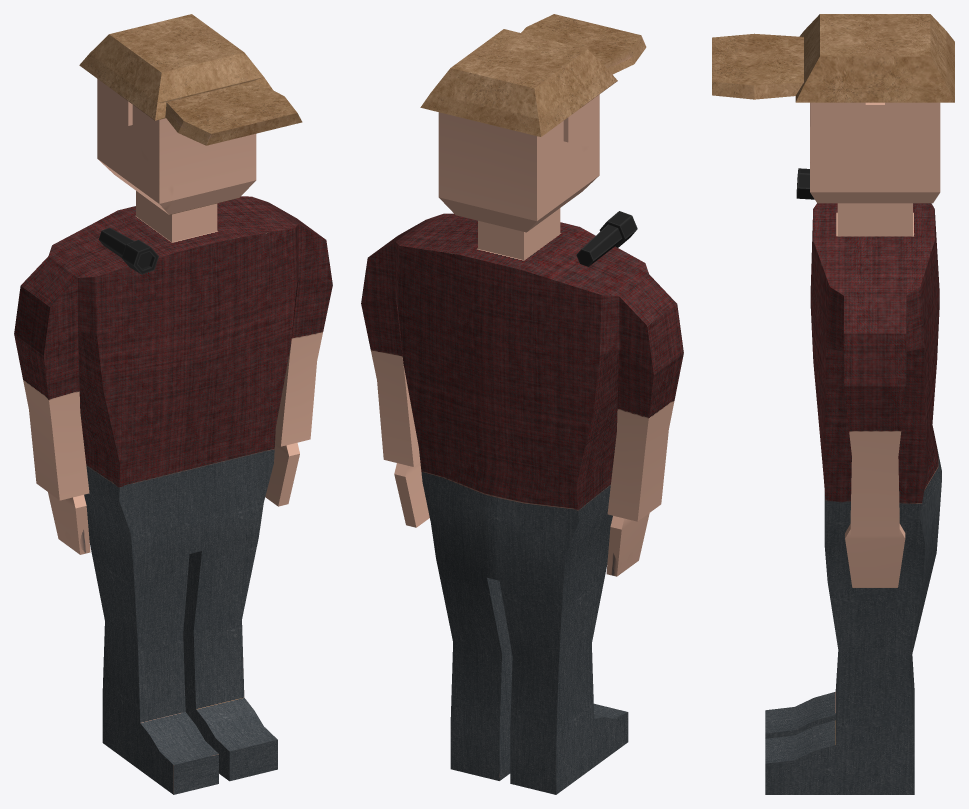
Rendered from Cacador.obj.
3 views of the same model, side by side, from view 1: azimuth 30°, elevation 25°; view 2: azimuth 150°, elevation 25°; view 3: azimuth 270°, elevation 25° (orthographic). The views are drawn at different scales.
Parts seen in each view (by area): view 1: Cacador1 pCube2, pCylinder8 Cacador1; view 2: Cacador1 pCube2, pCylinder8 Cacador1; view 3: Cacador1 pCube2.
Part boxes in pixels (<box>): Cacador1 pCube2: <box>14,14,332,794</box>; pCylinder8 Cacador1: <box>98,227,158,274</box>; Cacador1 pCube2: <box>361,14,683,794</box>; pCylinder8 Cacador1: <box>576,211,637,266</box>; Cacador1 pCube2: <box>712,14,954,794</box>.
Size of the model in its own units: 0.9522 by 2.2 by 0.6594.
2 materials, 2 textured.
